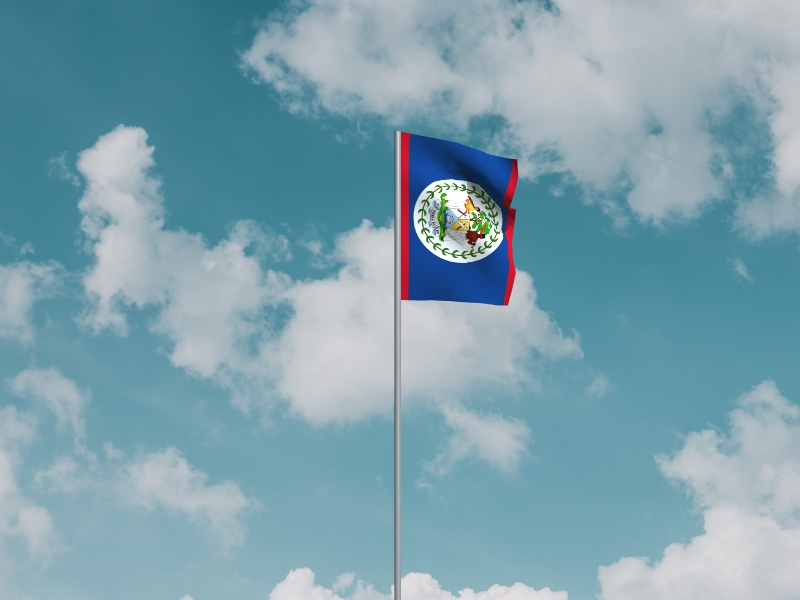bz: (402, 133, 520, 308)
